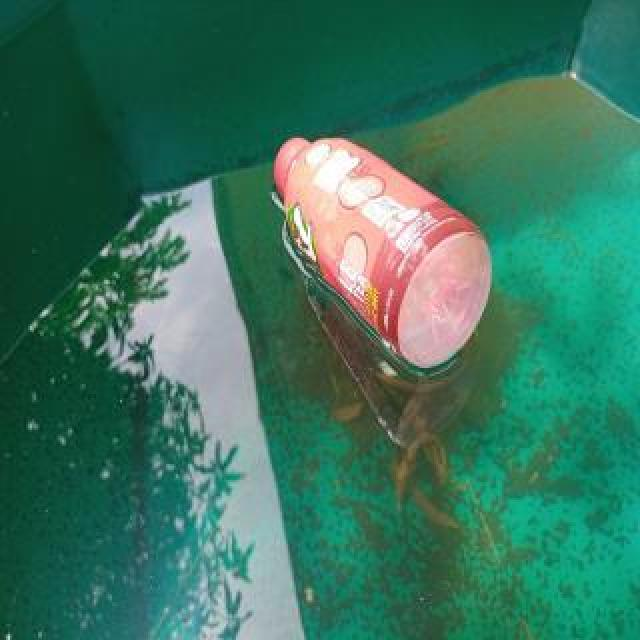bottle: (271, 132, 493, 370)
